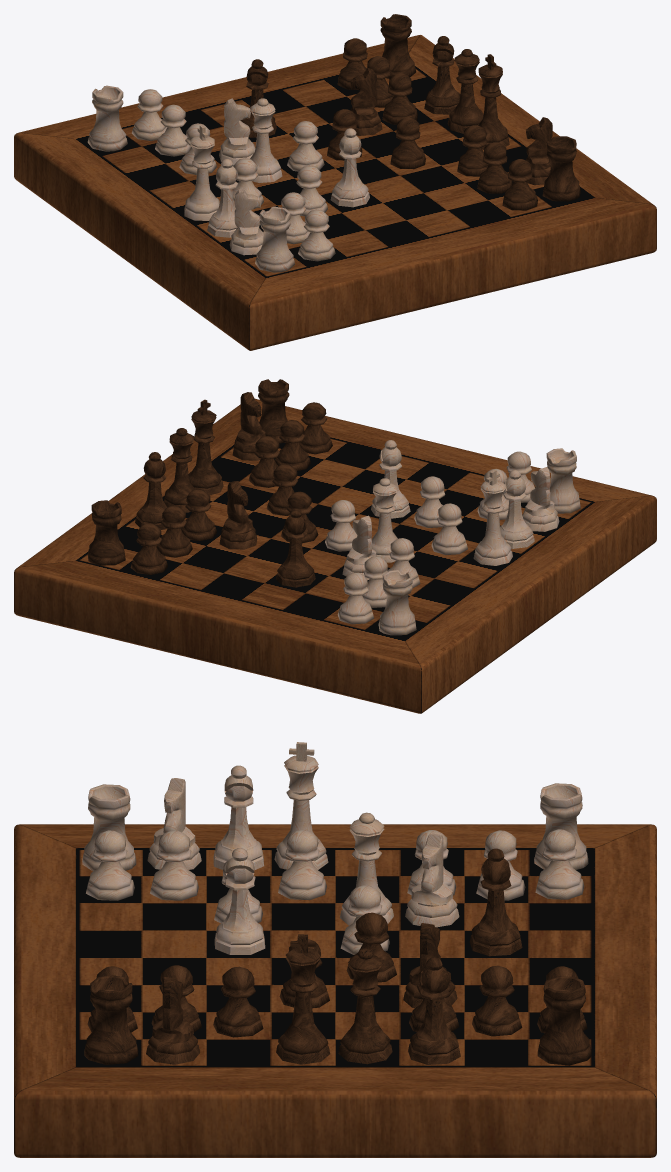
Rendered from WoodenChessSet2.glb.
3 renders of one model, top to bottom at view 1: azimuth 30°, elevation 25°; view 2: azimuth 150°, elevation 25°; view 3: azimuth 270°, elevation 25°, orthographic. The views are drawn at different scales.
Visible parts, largest first — view 1: ChessBoard, WhiteRook.001, WhiteRook, WhiteKing, BlackRook.001, WhiteBishop.001, BlackQueen, WhiteKnight, BlackBishop, WhiteQueen, BlackKing, BlackRook (+21 smaller); view 2: ChessBoard, WhiteKing, WhiteRook.001, BlackRook, BlackKing, BlackBishop.001, BlackKnight, WhiteRook, WhiteBishop, WhiteKnight, BlackQueen, WhiteQueen (+20 smaller); view 3: ChessBoard, BlackKing, BlackRook, BlackRook.001, BlackQueen, BlackBishop.001, BlackBishop, WhiteBishop.001, WhiteKnight.001, BlackKnight.001, WhiteKing, WhiteBishop (+21 smaller).
Part boxes in pixels (bbox=[...]): ChessBoard: bbox=[14, 35, 656, 350]; WhiteRook.001: bbox=[87, 85, 127, 151]; WhiteRook: bbox=[255, 206, 294, 272]; WhiteKing: bbox=[184, 125, 219, 220]; BlackRook.001: bbox=[542, 136, 580, 201]; WhiteBishop.001: bbox=[330, 128, 369, 207]; BlackQueen: bbox=[447, 49, 483, 133]; WhiteKnight: bbox=[229, 188, 263, 255]; BlackBishop: bbox=[424, 36, 460, 114]; WhiteQueen: bbox=[250, 98, 282, 182]; BlackKing: bbox=[478, 54, 509, 149]; BlackRook: bbox=[380, 14, 416, 78]; ChessBoard: bbox=[14, 398, 656, 713]; WhiteKing: bbox=[473, 470, 512, 565]; WhiteRook.001: bbox=[378, 570, 416, 635]; BlackRook: bbox=[87, 500, 125, 565]; BlackKing: bbox=[188, 399, 223, 495]; BlackBishop.001: bbox=[276, 508, 315, 587]; BlackKnight: bbox=[219, 481, 257, 549]; WhiteRook: bbox=[546, 448, 580, 513]; WhiteBishop: bbox=[500, 470, 534, 548]; WhiteKnight: bbox=[522, 467, 559, 531]; BlackQueen: bbox=[163, 428, 195, 512]; WhiteQueen: bbox=[371, 478, 397, 562]; ChessBoard: bbox=[14, 824, 656, 1157]; BlackKing: bbox=[276, 934, 330, 1064]; BlackRook: bbox=[537, 976, 591, 1065]; BlackRook.001: bbox=[84, 975, 138, 1064]; BlackQueen: bbox=[338, 948, 392, 1064]; BlackBishop.001: bbox=[469, 848, 522, 956]; BlackBishop: bbox=[408, 957, 460, 1064]; WhiteBishop.001: bbox=[214, 848, 265, 954]; WhiteKnight.001: bbox=[405, 833, 459, 927]; BlackKnight.001: bbox=[146, 977, 199, 1064]; WhiteKing: bbox=[274, 742, 328, 869]; WhiteBishop: bbox=[213, 765, 264, 870].
Size of the model in its own units: 0.35 by 0.1108 by 0.35.
3 materials, 3 textured.
